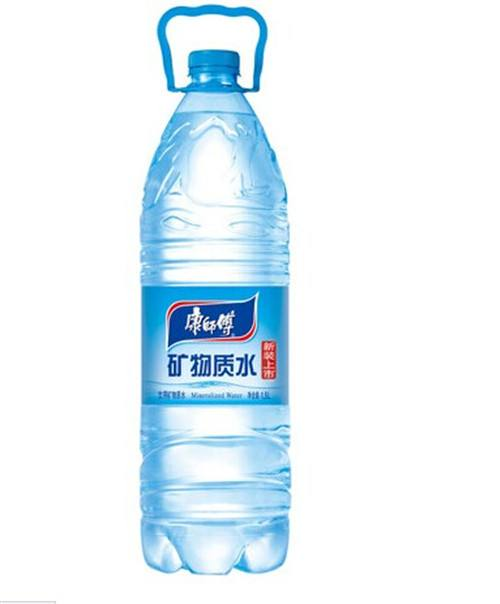amwater: (95, 1, 338, 586)
